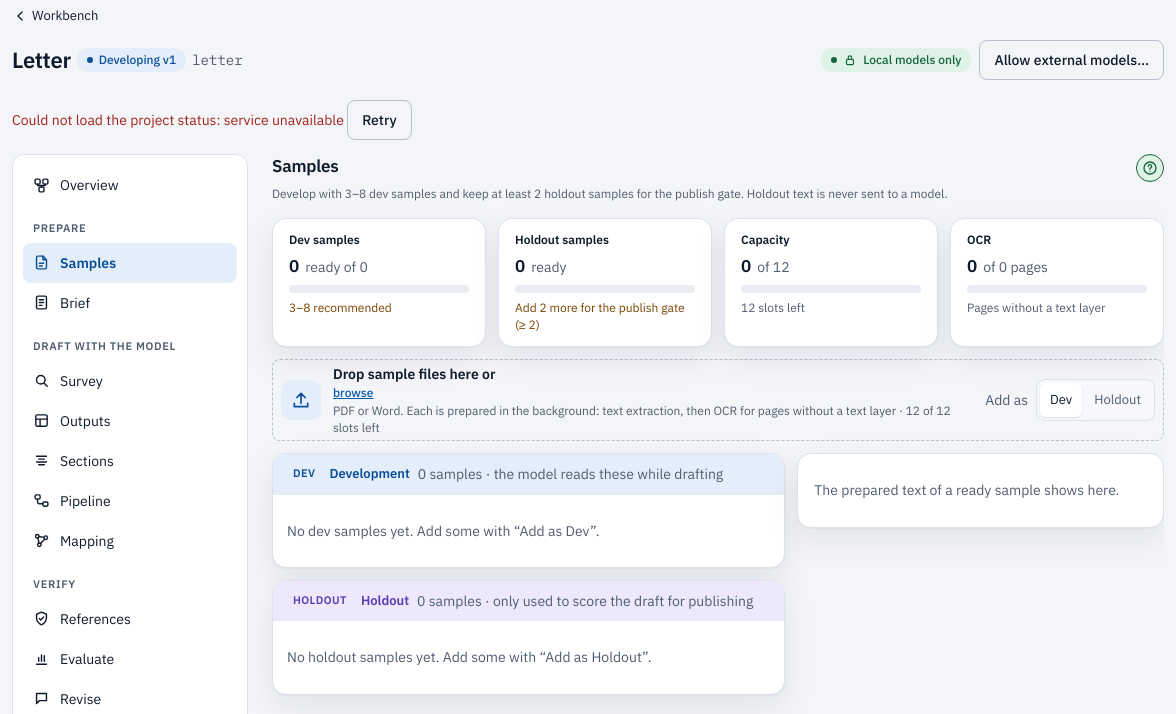
Test: ProjectPage › shows an overview failure, keeps the header and retries
Expected: the message shows "Could not load the project status: service unavailable", [12,100,412,140]
Expected: the button "Allow external models…" is shown, [979,40,1164,80]
Click the button "Retry": (379,120) [347,100,412,140]
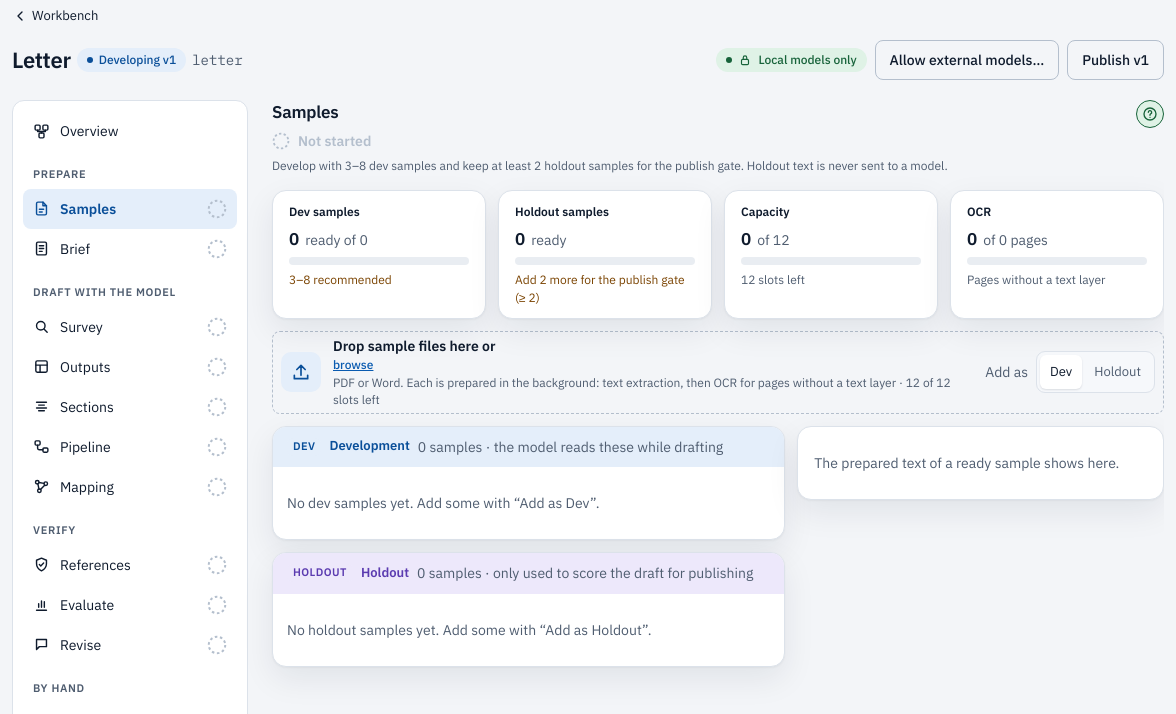
Expected: the message "Could not load the project status: service unavailable Retry" is gone
Expected: the link with aria-label "Samples: Not started" is shown, [23,189,237,229]
